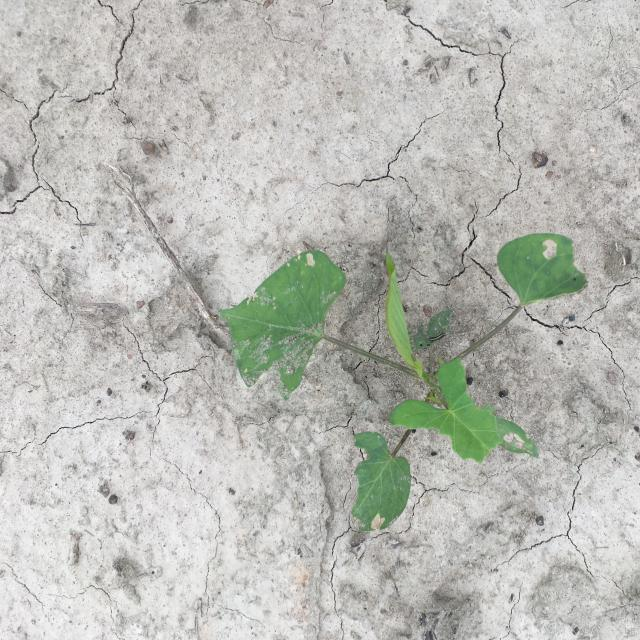MorningGlory: (218, 234, 590, 532)
